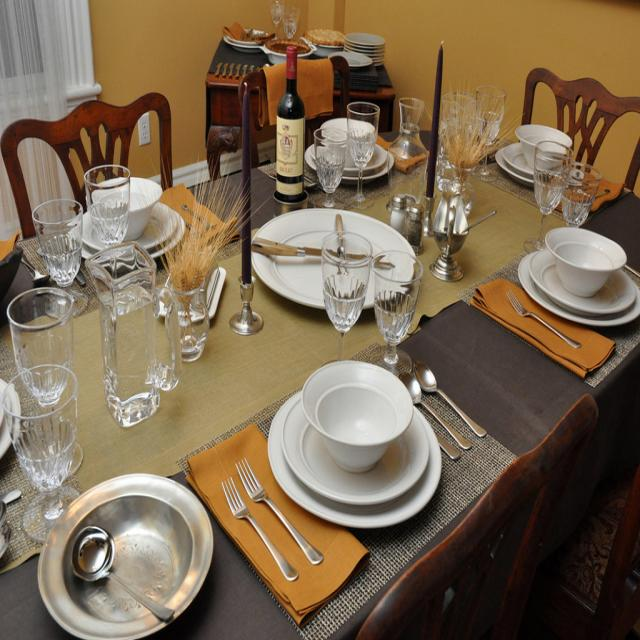non-organic waste: (250, 354, 452, 531), (40, 461, 216, 640), (245, 211, 416, 320), (514, 230, 640, 330)
